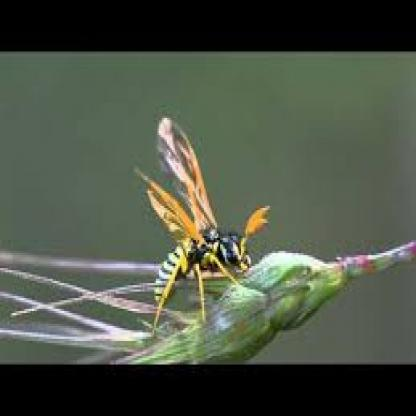sawfly: (129, 112, 273, 318)
